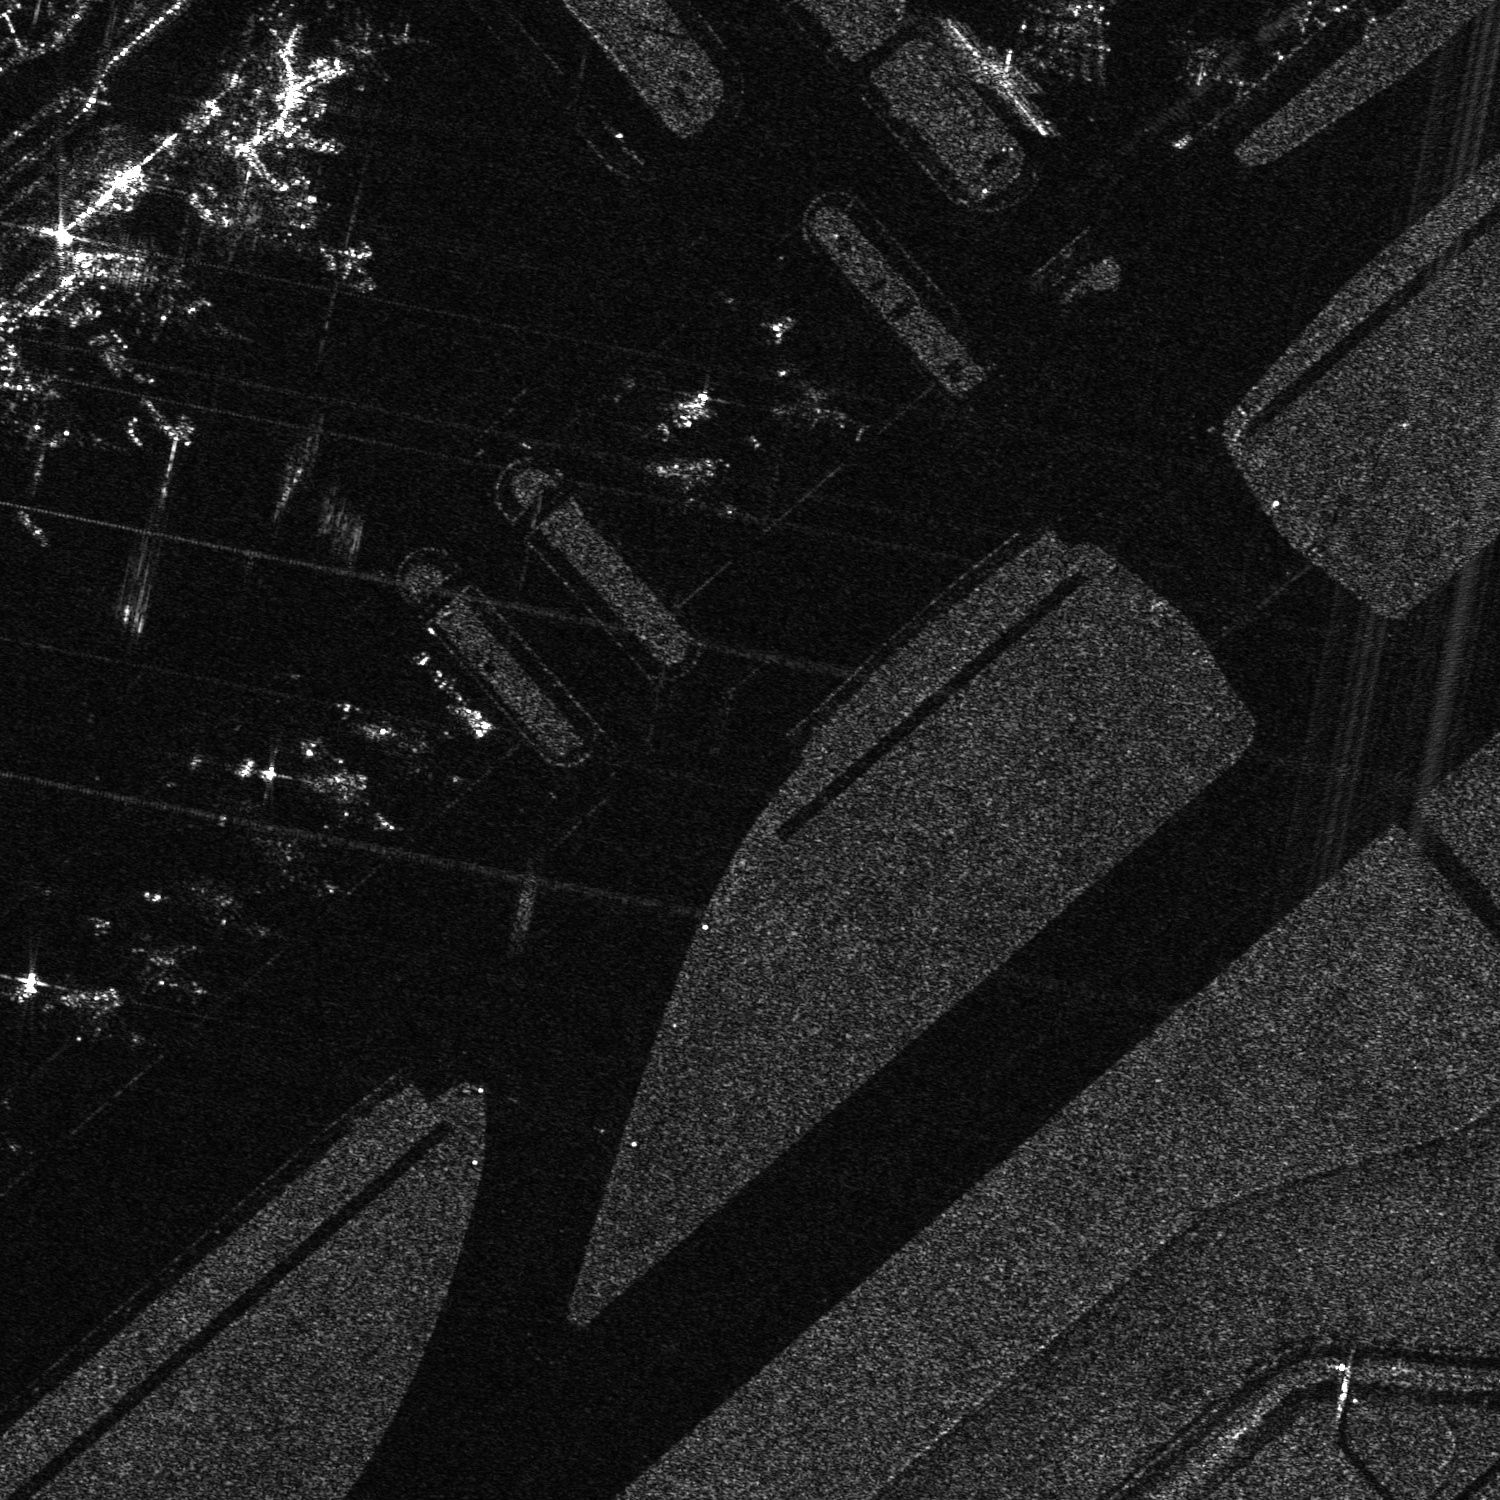Boeing737: (332, 695, 442, 790), (295, 739, 387, 841), (240, 819, 348, 905), (775, 354, 874, 441), (192, 872, 291, 955), (640, 440, 738, 521), (62, 988, 157, 1060), (137, 934, 207, 1004), (316, 238, 387, 295)
